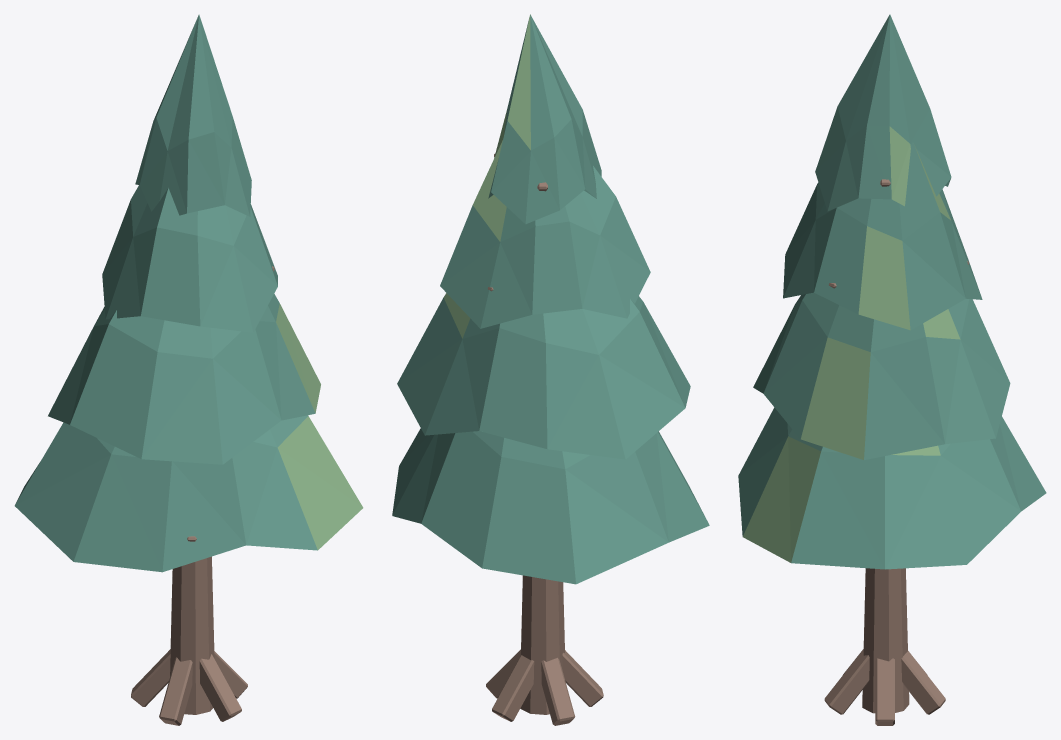
Rendered from world_tree_pine.fbx.
3 renders of one model, left to right at view 1: azimuth 30°, elevation 25°; view 2: azimuth 150°, elevation 25°; view 3: azimuth 270°, elevation 25°, orthographic.
Parts seen in each view (by area): view 1: world_tree_pine_mesh; view 2: world_tree_pine_mesh; view 3: world_tree_pine_mesh.
Part boxes in pixels (x1,y1,x2,y2): world_tree_pine_mesh: [14, 14, 363, 725]; world_tree_pine_mesh: [392, 14, 709, 725]; world_tree_pine_mesh: [738, 14, 1046, 725].
Bounding box in the file's own units: 2.12 × 4.75 × 1.91.
